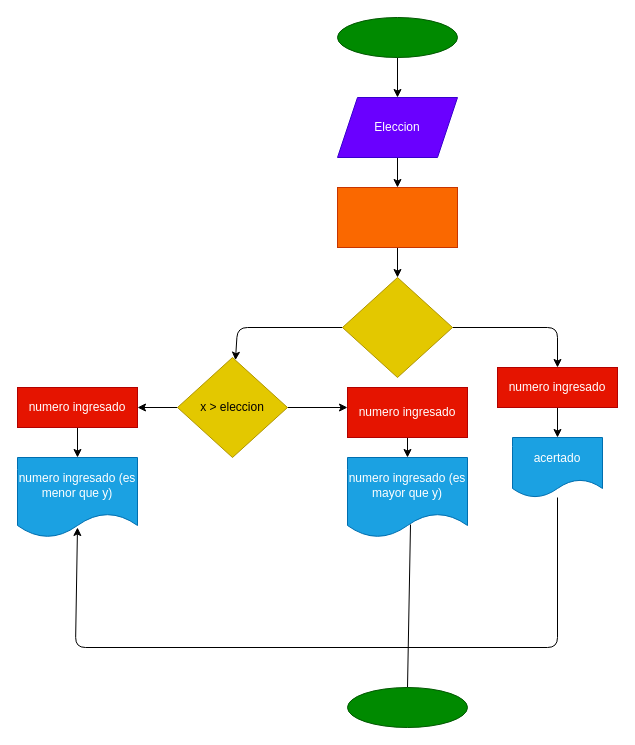
The diagram is 635 pixels wide and 745 high, and some of its shapes have lost their labels. Here are the shapes that lost their labels. From the top down, the centre of each, then its label:
pixel 397 37: inicio
pixel 397 217: x ==randi(1.10)
pixel 397 327: x == eleccion
pixel 407 707: fin
